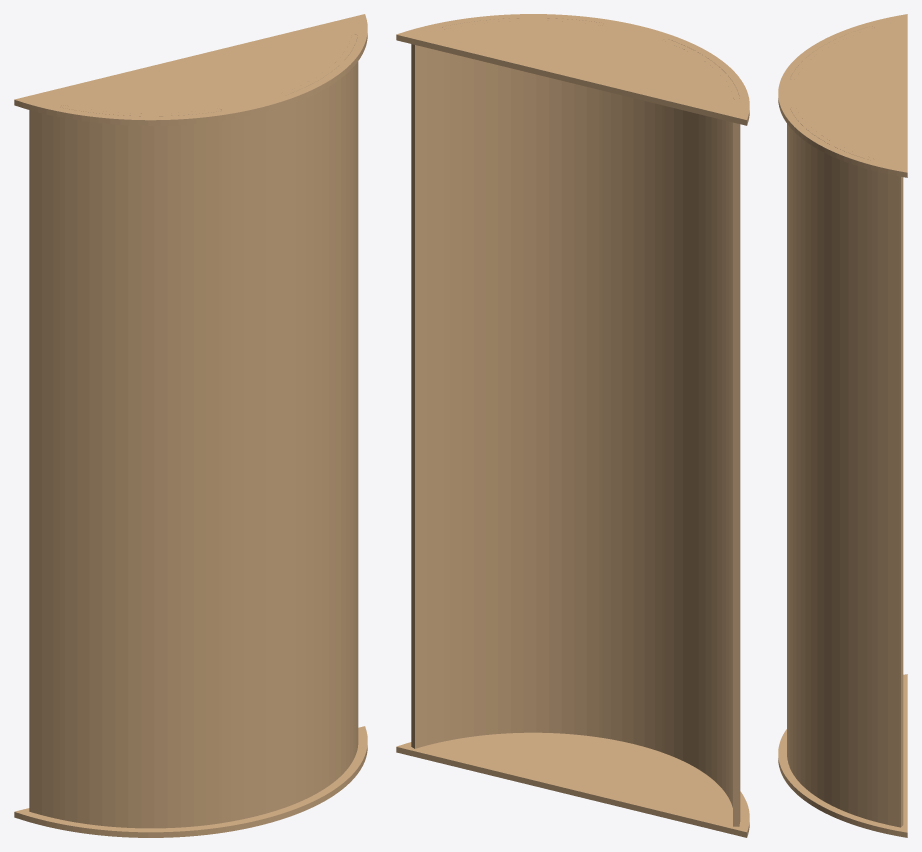
Rendered from samla.glb.
3 renders of one model, left to right at view 1: azimuth 30°, elevation 25°; view 2: azimuth 150°, elevation 25°; view 3: azimuth 270°, elevation 25°, orthographic. The views are drawn at different scales.
Parts seen in each view (by area): view 1: slicer-seilstemning; view 2: slicer-seilstemning; view 3: slicer-seilstemning.
Boxes of the visible parts, left/top/right/bottom form: slicer-seilstemning: left=14, top=14, right=367, bottom=837; slicer-seilstemning: left=396, top=14, right=749, bottom=837; slicer-seilstemning: left=778, top=14, right=907, bottom=837.
Bounding box in the file's own units: 0.1944 × 0.38 × 0.0671.
